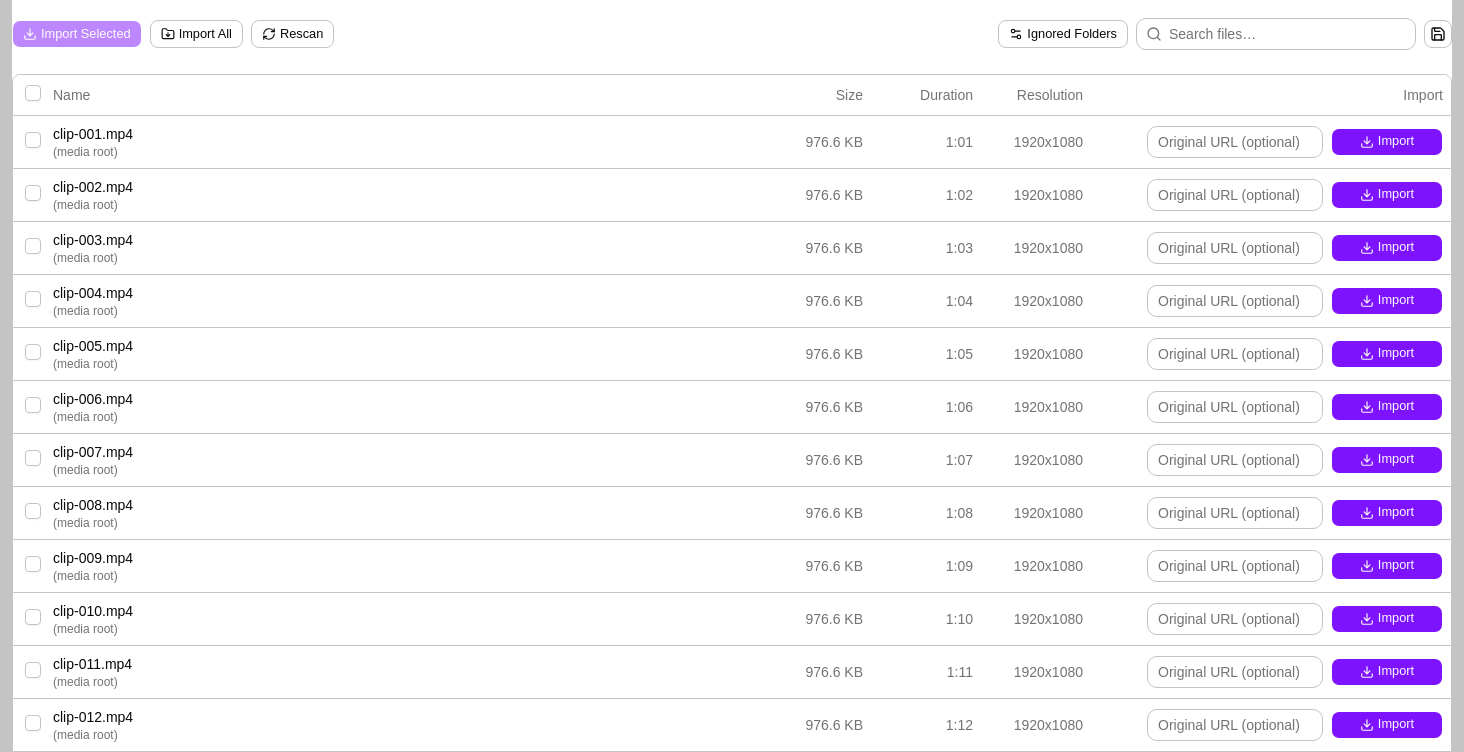
Test case: ImportPage table › pages at 50 rows and clears the selection on a page change
Check: the text "clip-001.mp4" is shown, box [53, 126, 133, 142]
Press the mouse on the row "clip-002.mp4 (media root) 976.6 KB 1:02 1920x1080 Import" at {"x": 732, "y": 194}, box [13, 168, 1451, 221]
(page scrolled)
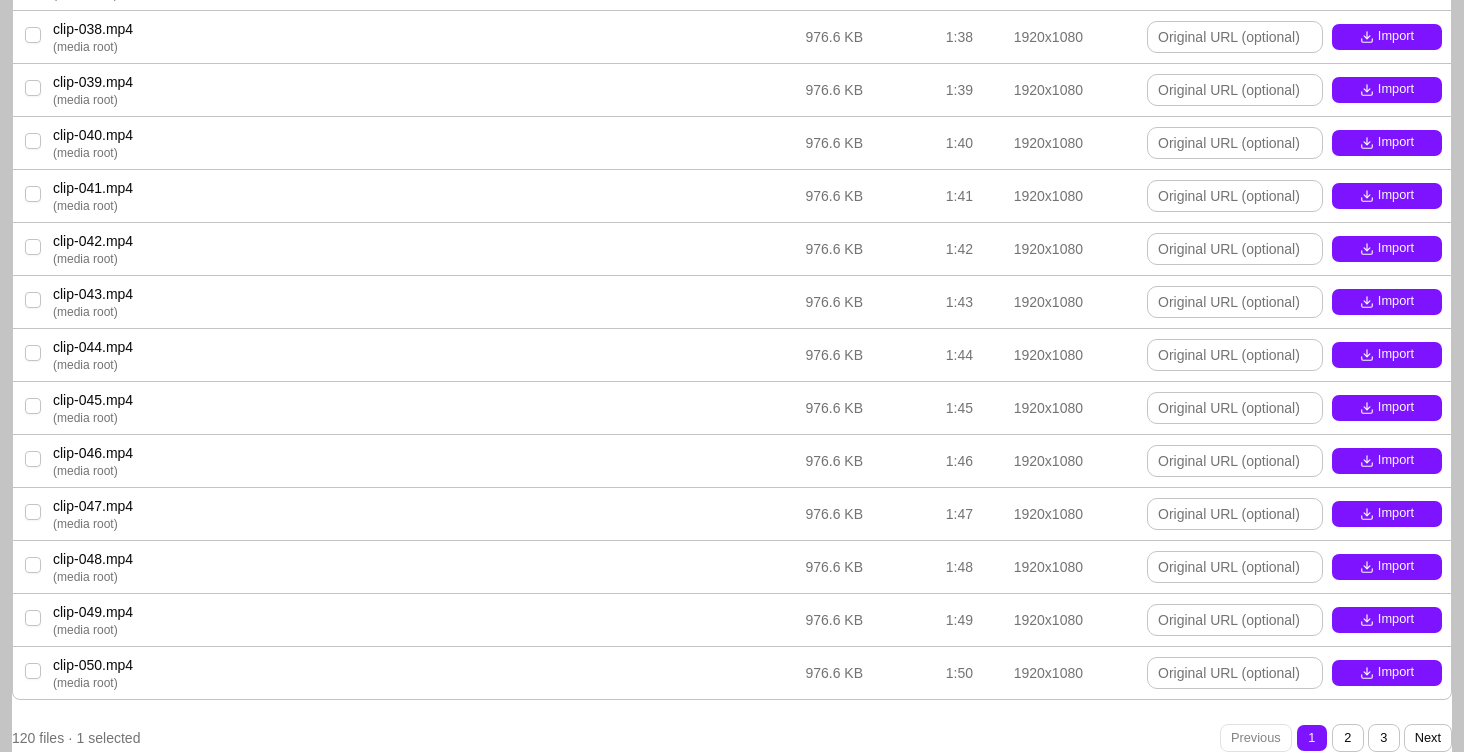
Check: the text "120 files · 1 selected" is shown, box [12, 728, 140, 748]
Click the button "2" at {"x": 1348, "y": 738}, box [1332, 724, 1364, 751]
(page scrolled)
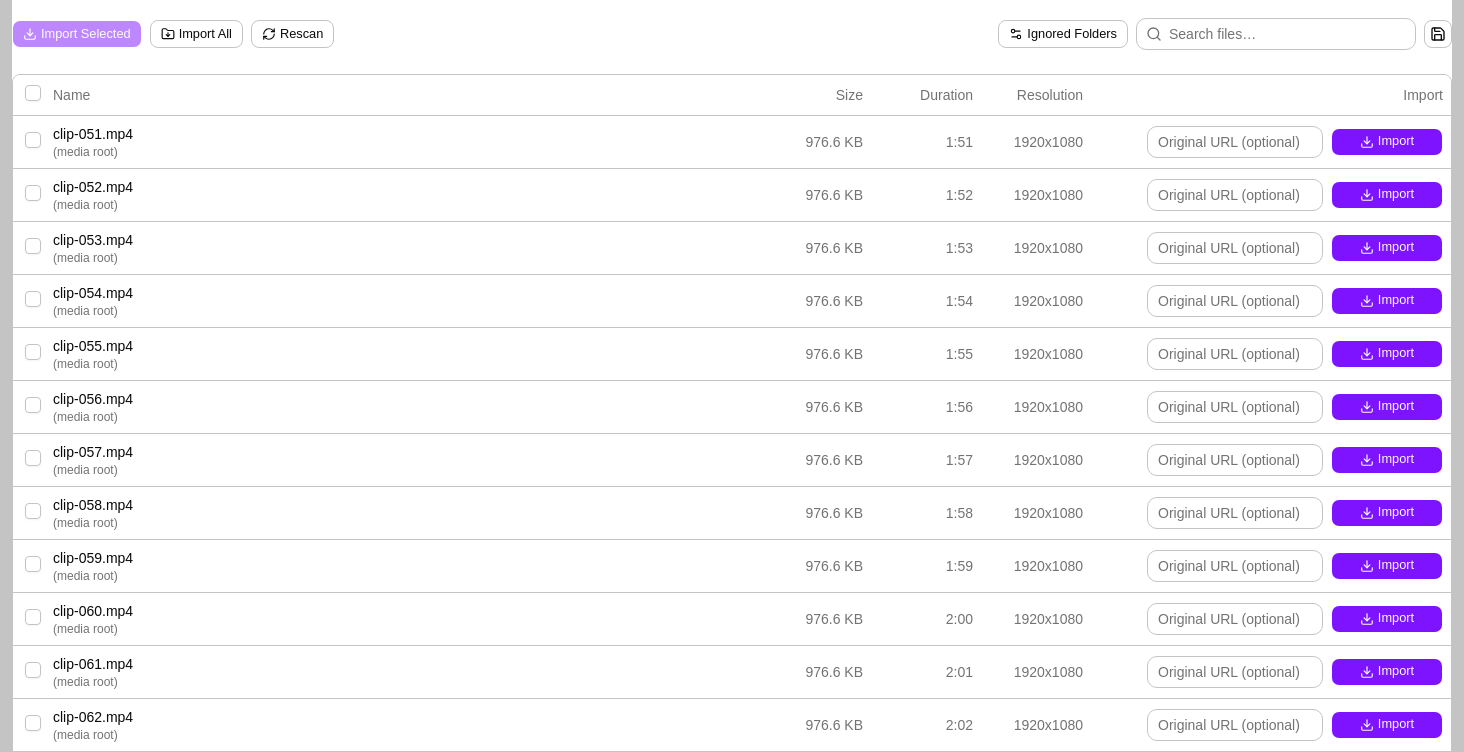
Check: the text "clip-051.mp4" is shown, box [53, 126, 133, 142]
Check: the button "Import Selected" is disabled, box [12, 20, 142, 48]
